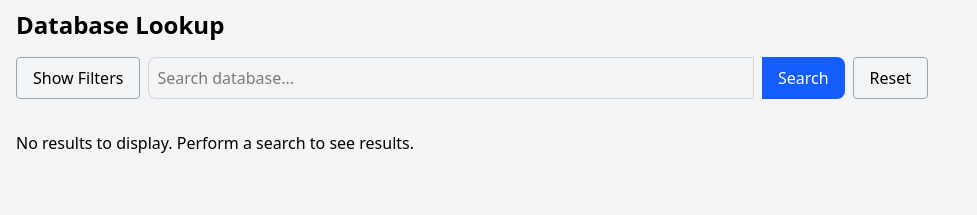
Test: DBLookup Component › fetches and displays suggestions
input something in the search bar to invoke suggestion mechanism
Type "test" into the field with placeholder "Search database..." at [451, 78], box [148, 57, 754, 99]
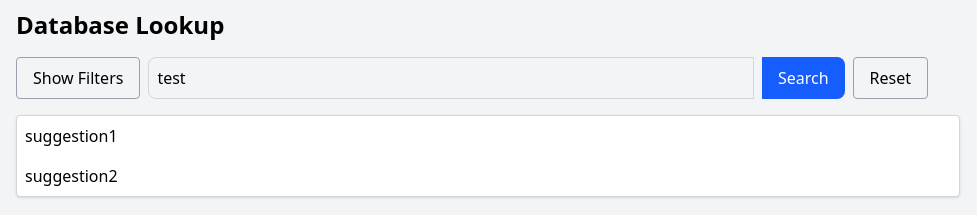
Expected: the list item "suggestion1" is shown
Expected: the list item "suggestion2" is shown, [25, 165, 118, 187]
Click a suggestion
Click the list item "suggestion1" at [71, 136], box [25, 125, 118, 147]
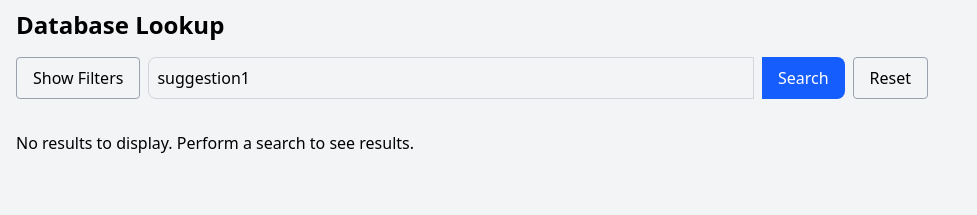
Expected: the field showing "suggestion1" is shown, [148, 57, 754, 99]
